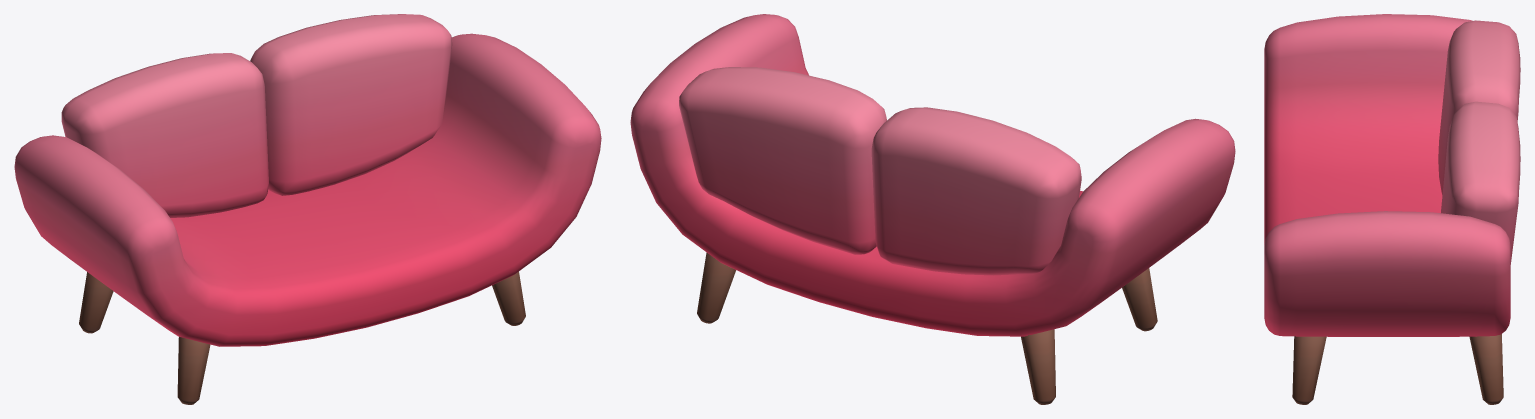
File: cute-furniture-glb-couch-11.glb
The picture shows the model from 3 angles, left to right: view 1: azimuth 30°, elevation 25°; view 2: azimuth 150°, elevation 25°; view 3: azimuth 270°, elevation 25°; orthographic projection. The views are drawn at different scales.
Parts seen in each view (by area): view 1: Couch_11; view 2: Couch_11; view 3: Couch_11.
Part boxes in pixels (x1,y1,x2,y2): Couch_11: (14, 14, 601, 404); Couch_11: (630, 14, 1235, 404); Couch_11: (1264, 14, 1520, 404).
Bounding box in the file's own units: 1.56 × 0.7706 × 0.7455.
Materials: 1 (1 with a texture image).
